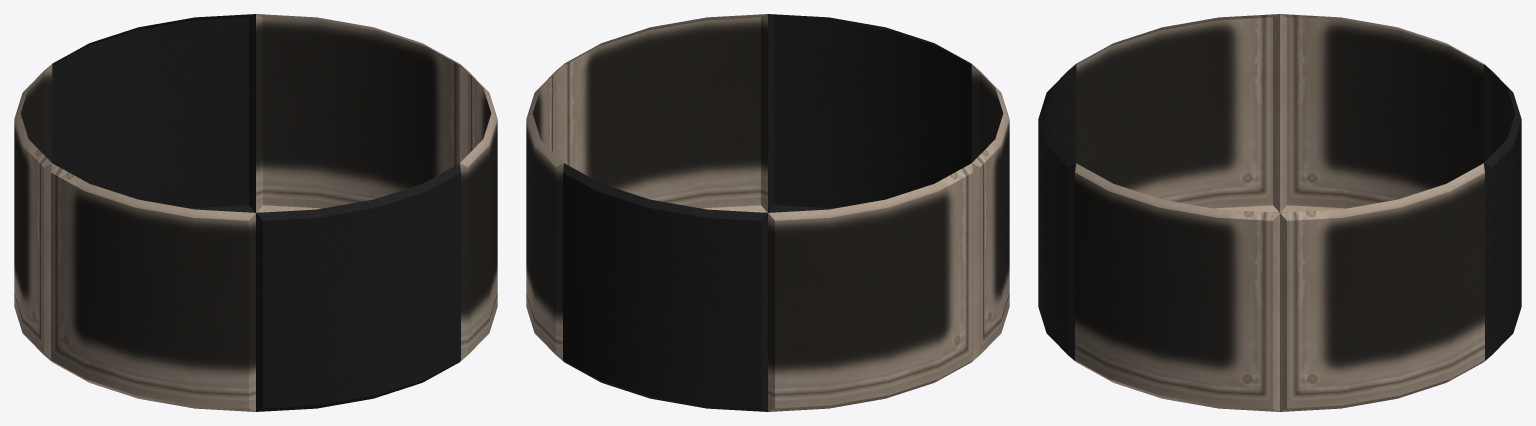
The model's file is cygnus_fuselage_s1p5_6.obj.
3 renders of one model, left to right at view 1: azimuth 30°, elevation 25°; view 2: azimuth 150°, elevation 25°; view 3: azimuth 270°, elevation 25°, orthographic.
Parts seen in each view (by area): view 1: mesh1; view 2: mesh1; view 3: mesh1.
Part boxes in pixels (x1,y1,x2,y2): mesh1: (14, 14, 497, 411); mesh1: (526, 14, 1009, 411); mesh1: (1038, 14, 1521, 411).
Bounding box in the file's own units: 1.92 × 0.875 × 1.93.
Materials: 1 (1 with a texture image).
